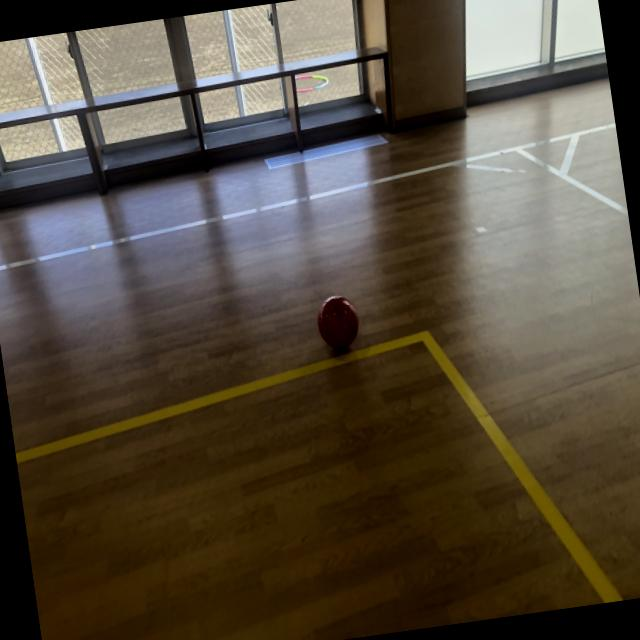red_ball: (316, 293, 362, 354)
